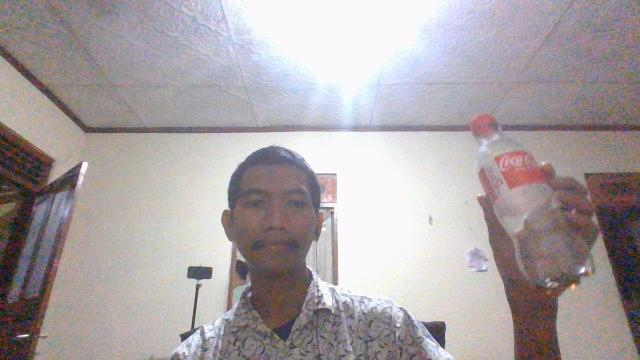coca-cola: (468, 113, 600, 289)
